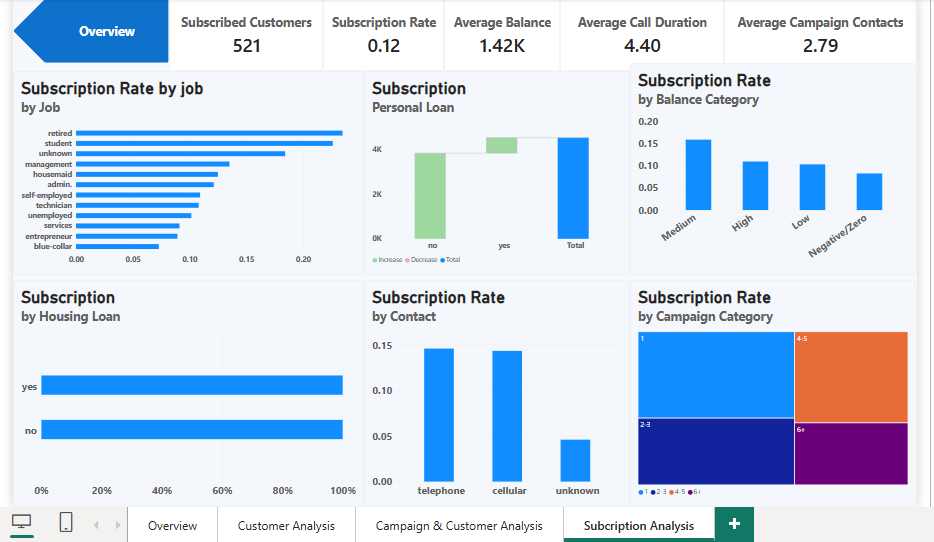

Layout of this report page (visuals, bound fields, positions):
{"tool":"powerbi","page":{"name":"Subcription Analysis","canvas":[1920,1080],"ordinal":3},"visuals":[{"type":"actionButton","box":[0,0,331.1,135.6],"z":0},{"type":"cardVisual","fields":{"Data":["bank_cleaned.Subscribed Customers"]},"box":[331.7,0,327.4,153.1],"z":1},{"type":"cardVisual","fields":{"Data":["bank_cleaned.Subscription Rate"]},"box":[659.1,0,257.2,153.1],"z":2},{"type":"cardVisual","fields":{"Data":["bank_cleaned.Average Balance"]},"box":[916.3,0,246.6,153.1],"z":3},{"type":"cardVisual","fields":{"Data":["bank_cleaned.Average Call Duration"]},"box":[1162.9,0,348.7,153.1],"z":4},{"type":"cardVisual","fields":{"Data":["bank_cleaned.Average Campaign Contacts"]},"box":[1511.6,0,408.2,153.1],"z":5},{"type":"clusteredBarChart","fields":{"Category":["bank_cleaned.job"],"Y":["bank_cleaned.Subscription Rate"]},"box":[0,153.1,746.2,433.7],"z":6},{"type":"hundredPercentStackedBarChart","title":"Subscription","fields":{"Category":["bank_cleaned.housing"],"Y":["CountNonNull(bank_cleaned.y)"]},"box":[0,597.4,746.2,482.6],"z":7},{"type":"waterfallChart","title":"Subscription ","fields":{"Category":["bank_cleaned.loan"],"Y":["CountNonNull(bank_cleaned.y)"]},"box":[746.2,153.1,565.5,433.7],"z":8},{"type":"columnChart","title":"Subscription Rate","fields":{"Category":["bank_cleaned.contact"],"Y":["bank_cleaned.Subscription Rate"]},"box":[746.2,597.4,565.5,482.6],"z":9},{"type":"columnChart","title":"Subscription Rate","fields":{"Category":["bank_cleaned.balance_category"],"Y":["bank_cleaned.Subscription Rate"]},"box":[1311.7,136.1,608,450.7],"z":10},{"type":"treemap","title":"Subscription Rate","fields":{"Group":["bank_cleaned.campaign_category"],"Values":["bank_cleaned.Subscription Rate"]},"box":[1311.7,597.4,608,482.6],"z":11}]}

Visuals, with their boxes on the page's 1920x1080 design canvas (x1, y1, x2, y2). These are canvas units, not pixel positions in the 934x542 screenshot, which may show the page scaled, cropped or inside an application window:
actionButton: detection(0, 0, 331, 136)
cardVisual - bank_cleaned.Subscribed Customers: detection(332, 0, 659, 153)
cardVisual - bank_cleaned.Subscription Rate: detection(659, 0, 916, 153)
cardVisual - bank_cleaned.Average Balance: detection(916, 0, 1163, 153)
cardVisual - bank_cleaned.Average Call Duration: detection(1163, 0, 1512, 153)
cardVisual - bank_cleaned.Average Campaign Contacts: detection(1512, 0, 1920, 153)
clusteredBarChart - bank_cleaned.job x bank_cleaned.Subscription Rate: detection(0, 153, 746, 587)
"Subscription" hundredPercentStackedBarChart: detection(0, 597, 746, 1080)
"Subscription " waterfallChart: detection(746, 153, 1312, 587)
"Subscription Rate" columnChart: detection(746, 597, 1312, 1080)
"Subscription Rate" columnChart: detection(1312, 136, 1920, 587)
"Subscription Rate" treemap: detection(1312, 597, 1920, 1080)
